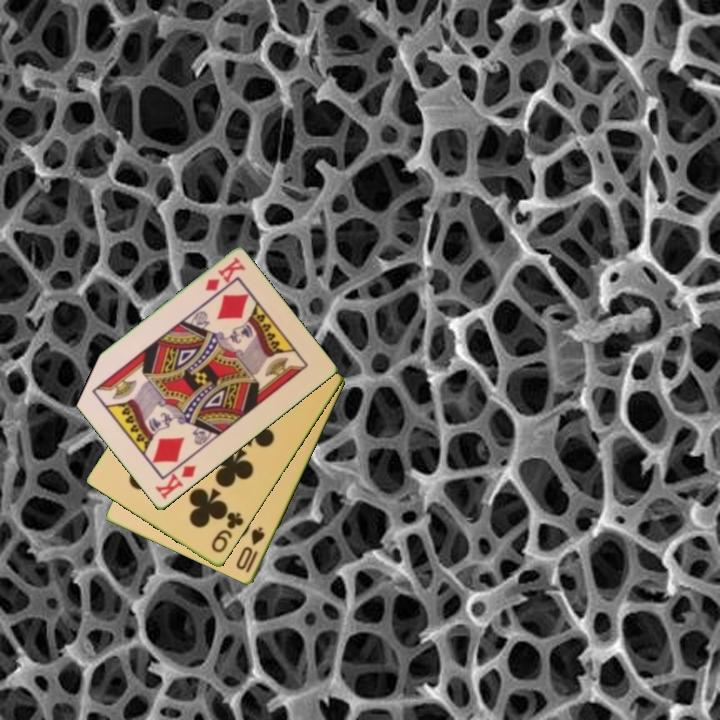10s: (233, 524, 268, 577)
9c: (208, 509, 247, 556)
Kd: (152, 462, 199, 503), (201, 254, 248, 294)
